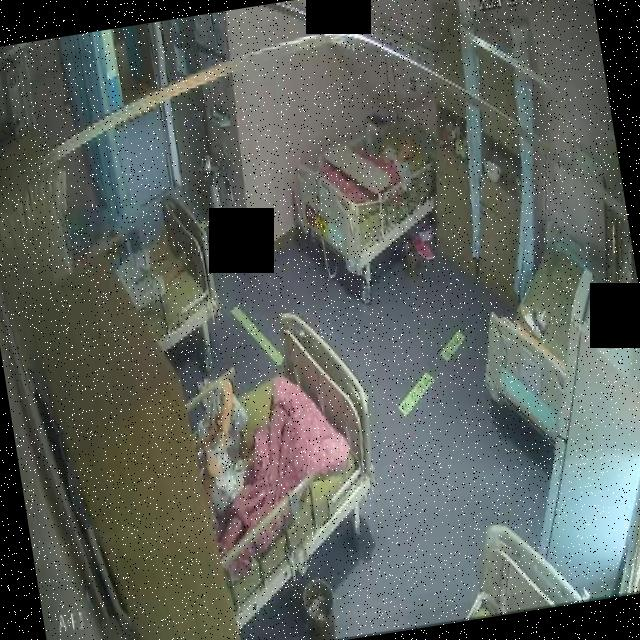bed: (176, 310, 390, 600), (284, 98, 448, 270), (472, 218, 606, 413), (103, 184, 224, 349)
lie: (185, 379, 268, 517), (113, 230, 194, 310)
patient: (186, 378, 268, 518), (112, 230, 194, 312), (374, 126, 422, 186)
